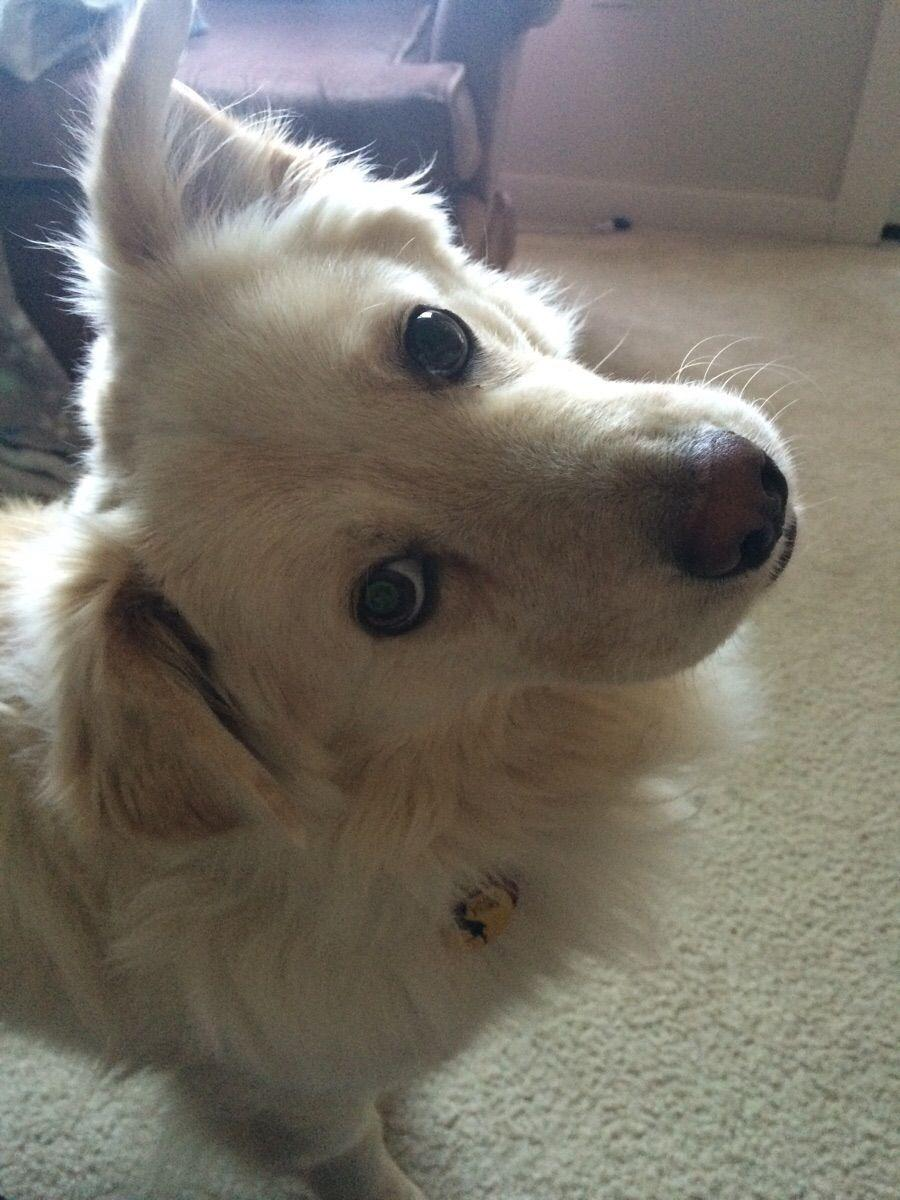adult_dog: (0, 1, 802, 1199)
